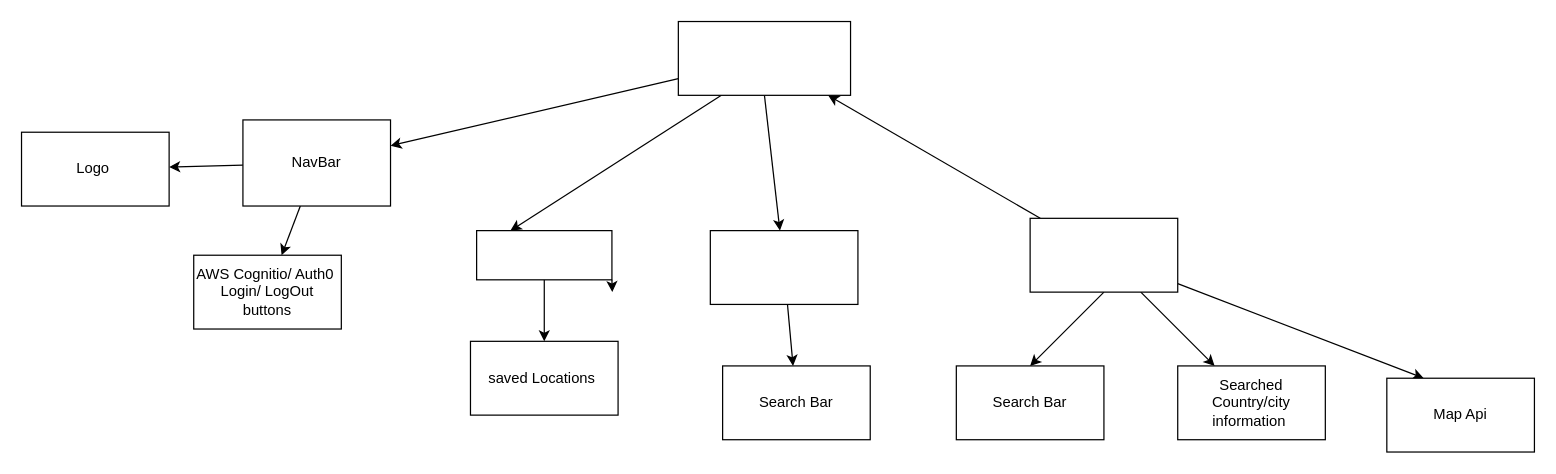
Some shapes in this 1556 by 474 pixel diagram are drawn without their labels. Here are the shapes that lost their labels. From the top down, the centre of each, then its label:
At (x=764, y=57): "App.js".
At (x=543, y=254): "Profile Page".
At (x=783, y=266): "Hompage".
At (x=1103, y=254): "Search page".
